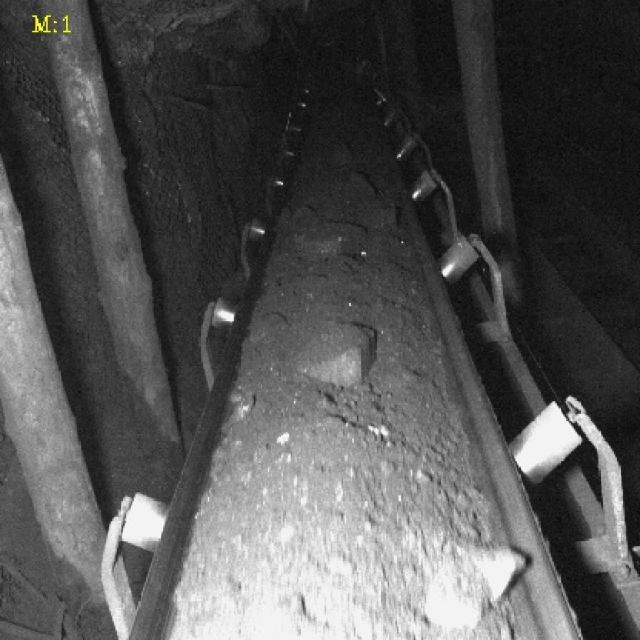large_sized_coal: (428, 542, 528, 623), (275, 208, 357, 264), (300, 329, 380, 385)
